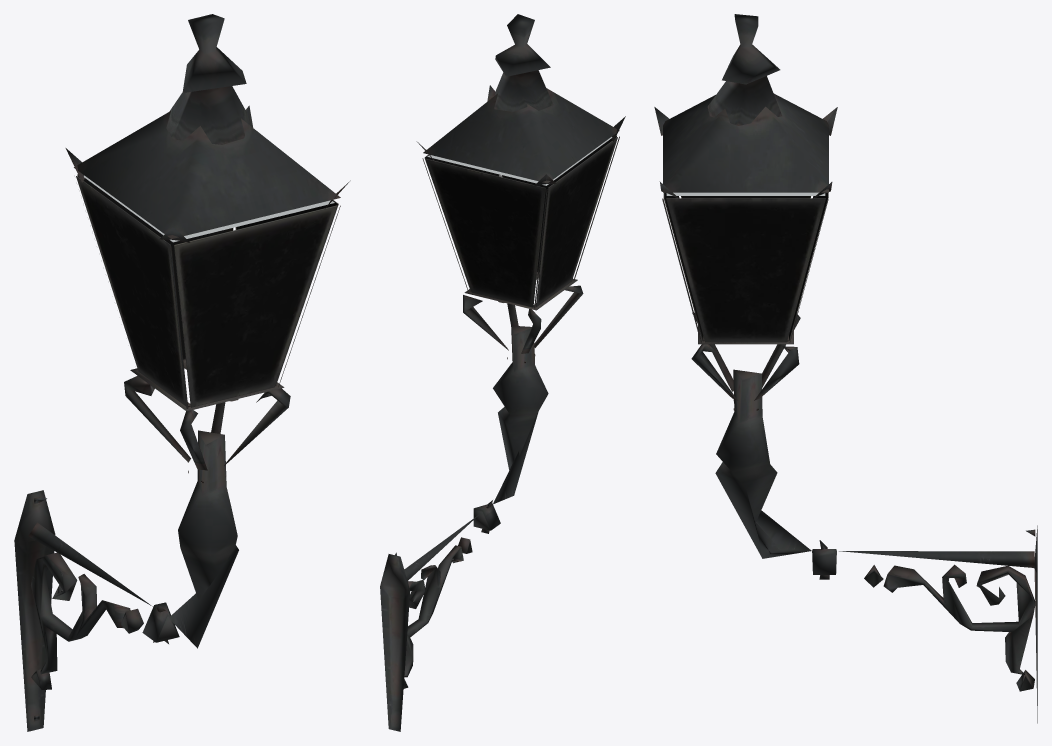
File: street_lamp_02.glb
3 views of the same model, side by side, from view 1: azimuth 30°, elevation 25°; view 2: azimuth 150°, elevation 25°; view 3: azimuth 270°, elevation 25° (orthographic). The views are drawn at different scales.
Parts seen in each view (by area): view 1: street_lamp_02; view 2: street_lamp_02; view 3: street_lamp_02.
Part boxes in pixels (box(x1,y1,x2,y2)): street_lamp_02: box(14, 14, 350, 731); street_lamp_02: box(380, 14, 625, 731); street_lamp_02: box(654, 14, 1037, 723).
Bounding box in the file's own units: 0.374 × 1.65 × 0.8066.
Materials: 2 (2 with a texture image).
